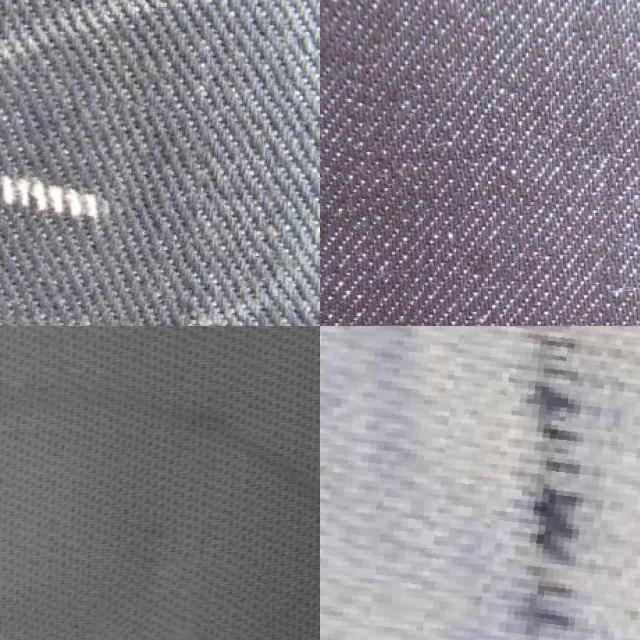stains: (320, 326, 640, 640), (0, 84, 202, 326), (82, 552, 264, 640)
